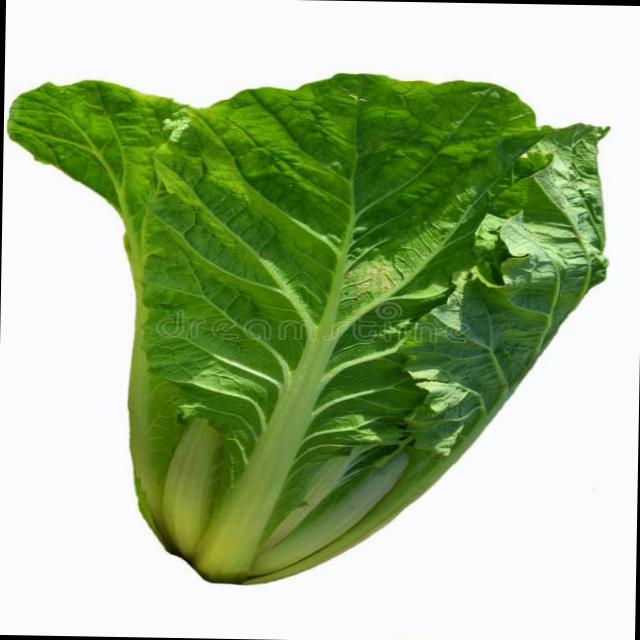Lettuce-Ready-to-Harvest: (8, 74, 606, 582)
